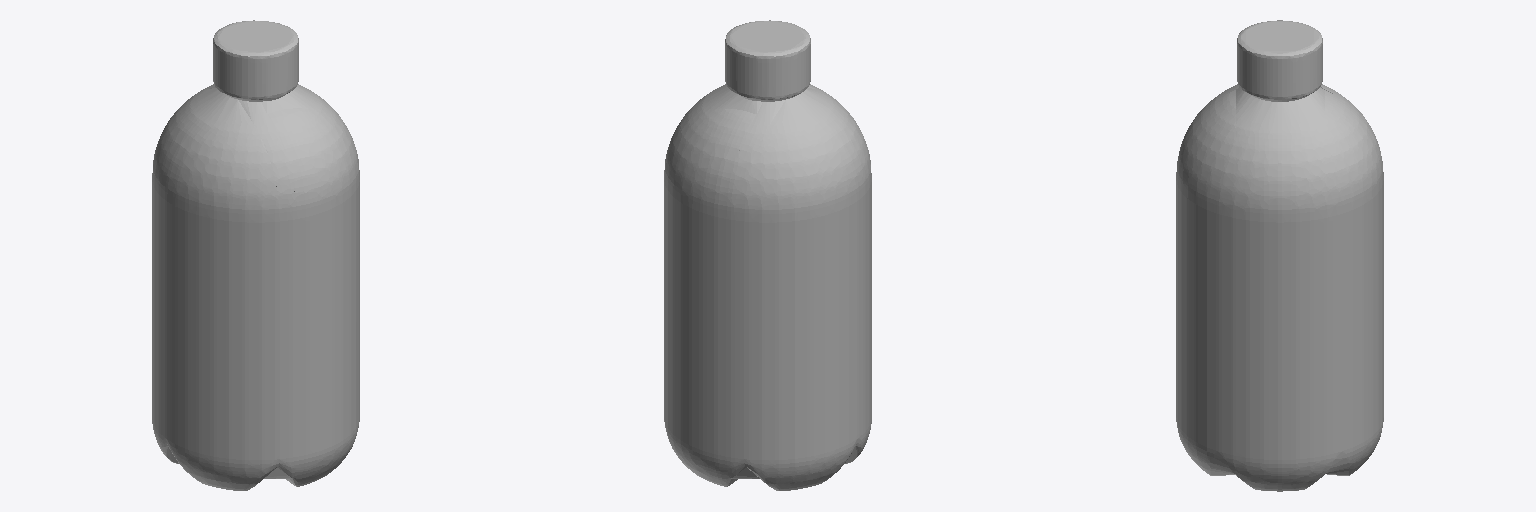
URDF robot description (root):
<robot name="root">
  <link name="object">
    <visual>
      <origin xyz="0 0 0" rpy="0 0 0"/>
      <geometry>
        <mesh filename="coacd_convex_piece_0.obj" scale="1.0000E+00 1.0000E+00 1.0000E+00"/>
      </geometry>
      <material name="">
        <color rgba="7.50E-01 7.50E-01 7.50E-01 1"/>
      </material>
    </visual>
    <collision>
      <origin xyz="0 0 0" rpy="0 0 0"/>
      <geometry>
        <mesh filename="coacd_convex_piece_0.obj" scale="1.0000E+00 1.0000E+00 1.0000E+00"/>
      </geometry>
    </collision>
    <visual>
      <origin xyz="0 0 0" rpy="0 0 0"/>
      <geometry>
        <mesh filename="coacd_convex_piece_1.obj" scale="1.0000E+00 1.0000E+00 1.0000E+00"/>
      </geometry>
      <material name="">
        <color rgba="7.50E-01 7.50E-01 7.50E-01 1"/>
      </material>
    </visual>
    <collision>
      <origin xyz="0 0 0" rpy="0 0 0"/>
      <geometry>
        <mesh filename="coacd_convex_piece_1.obj" scale="1.0000E+00 1.0000E+00 1.0000E+00"/>
      </geometry>
    </collision>
    <visual>
      <origin xyz="0 0 0" rpy="0 0 0"/>
      <geometry>
        <mesh filename="coacd_convex_piece_2.obj" scale="1.0000E+00 1.0000E+00 1.0000E+00"/>
      </geometry>
      <material name="">
        <color rgba="7.50E-01 7.50E-01 7.50E-01 1"/>
      </material>
    </visual>
    <collision>
      <origin xyz="0 0 0" rpy="0 0 0"/>
      <geometry>
        <mesh filename="coacd_convex_piece_2.obj" scale="1.0000E+00 1.0000E+00 1.0000E+00"/>
      </geometry>
    </collision>
    <visual>
      <origin xyz="0 0 0" rpy="0 0 0"/>
      <geometry>
        <mesh filename="coacd_convex_piece_3.obj" scale="1.0000E+00 1.0000E+00 1.0000E+00"/>
      </geometry>
      <material name="">
        <color rgba="7.50E-01 7.50E-01 7.50E-01 1"/>
      </material>
    </visual>
    <collision>
      <origin xyz="0 0 0" rpy="0 0 0"/>
      <geometry>
        <mesh filename="coacd_convex_piece_3.obj" scale="1.0000E+00 1.0000E+00 1.0000E+00"/>
      </geometry>
    </collision>
    <visual>
      <origin xyz="0 0 0" rpy="0 0 0"/>
      <geometry>
        <mesh filename="coacd_convex_piece_4.obj" scale="1.0000E+00 1.0000E+00 1.0000E+00"/>
      </geometry>
      <material name="">
        <color rgba="7.50E-01 7.50E-01 7.50E-01 1"/>
      </material>
    </visual>
    <collision>
      <origin xyz="0 0 0" rpy="0 0 0"/>
      <geometry>
        <mesh filename="coacd_convex_piece_4.obj" scale="1.0000E+00 1.0000E+00 1.0000E+00"/>
      </geometry>
    </collision>
    <visual>
      <origin xyz="0 0 0" rpy="0 0 0"/>
      <geometry>
        <mesh filename="coacd_convex_piece_5.obj" scale="1.0000E+00 1.0000E+00 1.0000E+00"/>
      </geometry>
      <material name="">
        <color rgba="7.50E-01 7.50E-01 7.50E-01 1"/>
      </material>
    </visual>
    <collision>
      <origin xyz="0 0 0" rpy="0 0 0"/>
      <geometry>
        <mesh filename="coacd_convex_piece_5.obj" scale="1.0000E+00 1.0000E+00 1.0000E+00"/>
      </geometry>
    </collision>
    <visual>
      <origin xyz="0 0 0" rpy="0 0 0"/>
      <geometry>
        <mesh filename="coacd_convex_piece_6.obj" scale="1.0000E+00 1.0000E+00 1.0000E+00"/>
      </geometry>
      <material name="">
        <color rgba="7.50E-01 7.50E-01 7.50E-01 1"/>
      </material>
    </visual>
    <collision>
      <origin xyz="0 0 0" rpy="0 0 0"/>
      <geometry>
        <mesh filename="coacd_convex_piece_6.obj" scale="1.0000E+00 1.0000E+00 1.0000E+00"/>
      </geometry>
    </collision>
  </link>
</robot>

--- Facts derived from the render (not from the file) ---
Views: 3 orthographic renders of the robot side by side, from view 1: azimuth 30°, elevation 25°; view 2: azimuth 150°, elevation 25°; view 3: azimuth 270°, elevation 25°.
Robot: root — 1 links, 0 joints (none); root link object; default pose: all joints at 0.
Links seen in each view (by area): view 1: object; view 2: object; view 3: object.
Boxes of the visible links, <box> form: object: <box>152,20,359,490</box>; object: <box>664,20,871,490</box>; object: <box>1176,20,1383,491</box>.
Size in the robot's own frame: 0.0616 by 0.0616 by 0.138 metres.
7 mesh visuals loaded from 7 distinct referenced files (7 OBJ).
